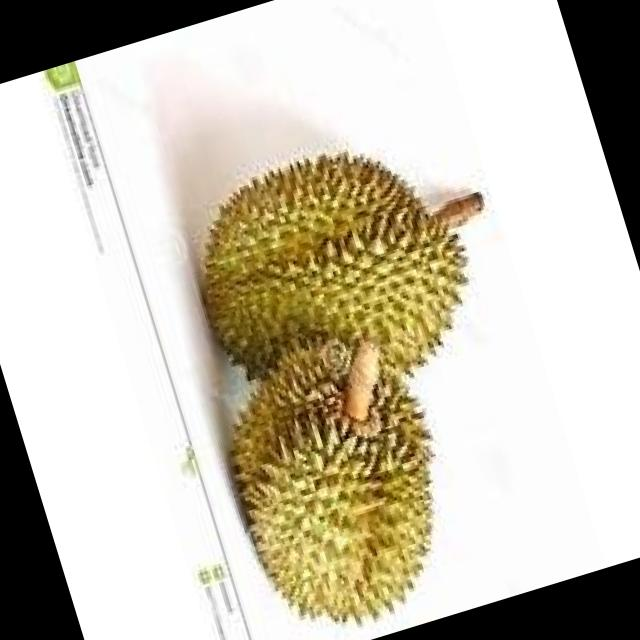fruit: (146, 90, 516, 436), (188, 324, 496, 640)
